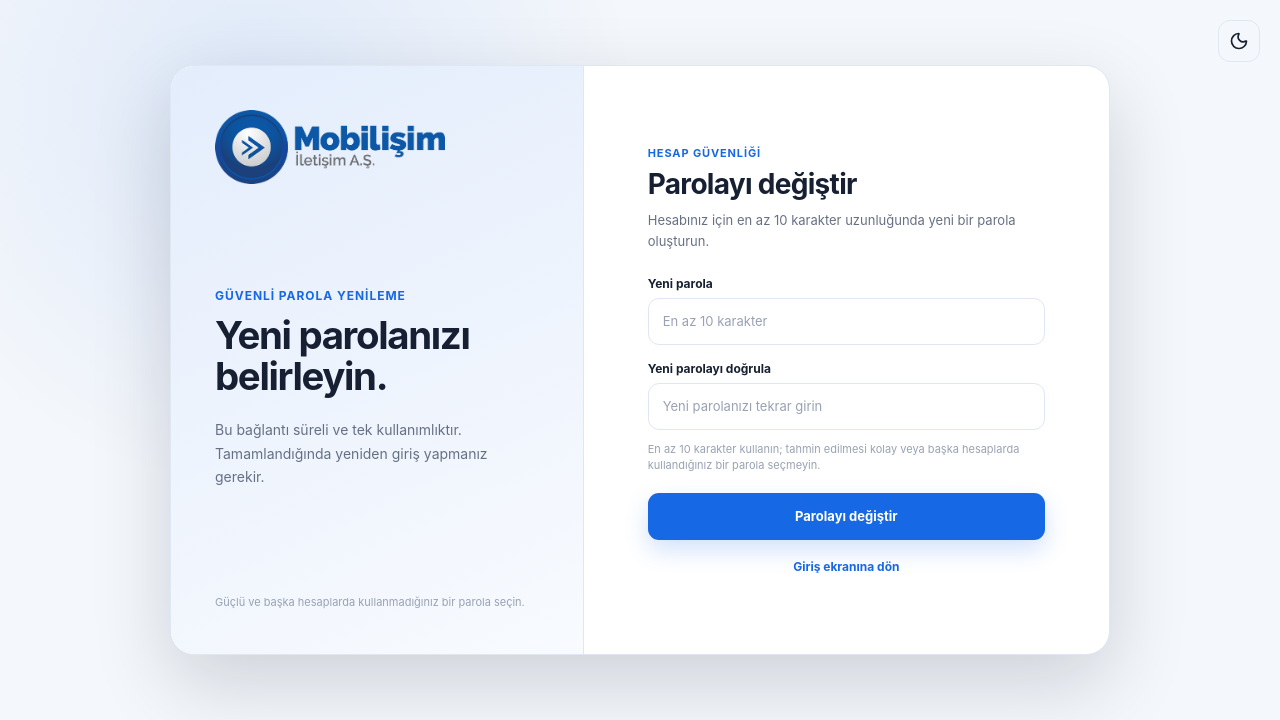
Test: PasswordResetScreen › parola kurallarını doğrulayıp yeni parolayı kaydeder
Type "short" into the password field labelled "Yeni parola" at (846, 321), box [648,298,1045,345]
Click the button "Parolayı değiştir" at (846, 516), box [648,493,1045,540]
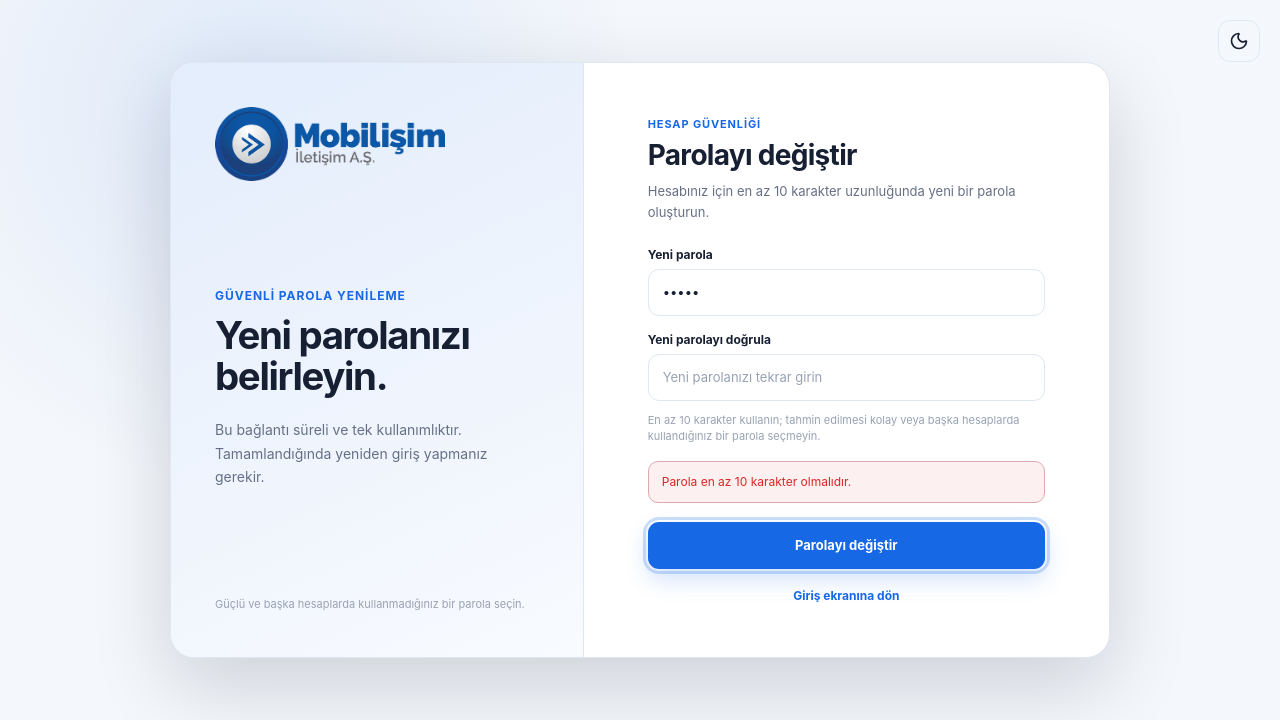
Check: the message reads "Parola en az 10 karakter olmalıdır.", box [662,474,851,489]
Type "strong-pass-2" into the password field labelled "Yeni parola" at (846, 292), box [648,269,1045,316]
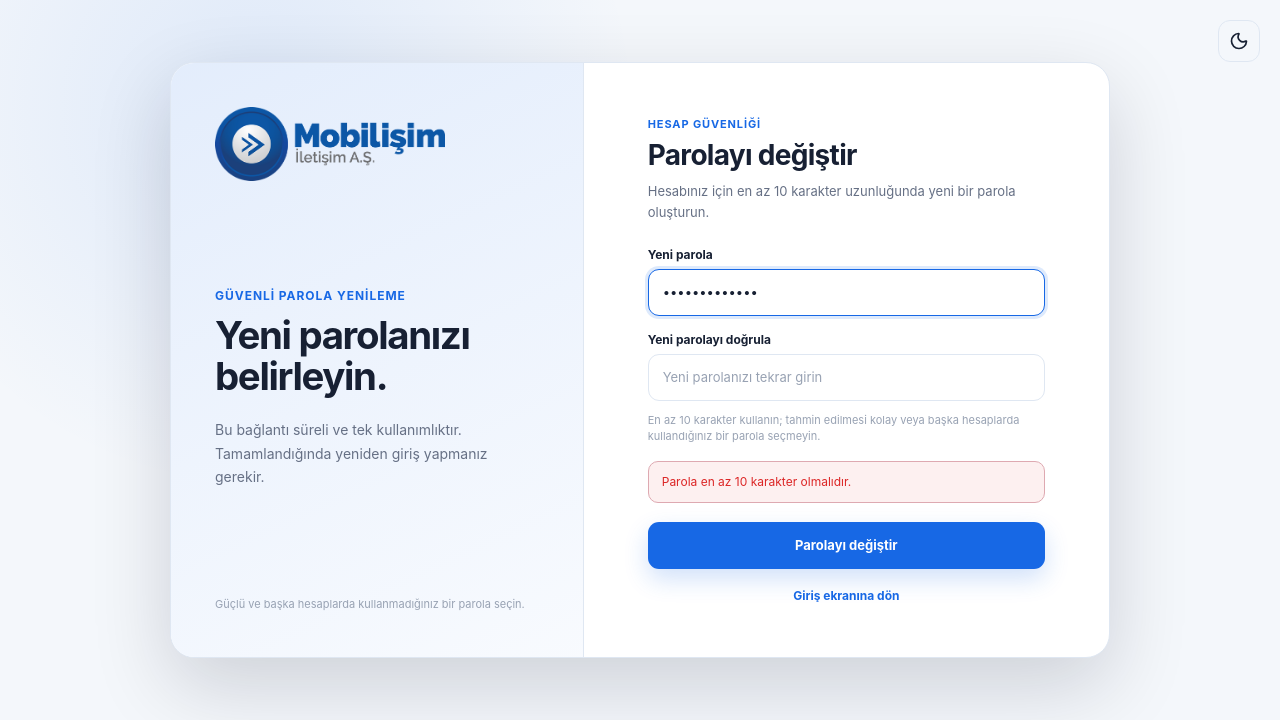
Type "different-pass" into the password field labelled "Yeni parolayı doğrula" at (846, 377), box [648,354,1045,401]
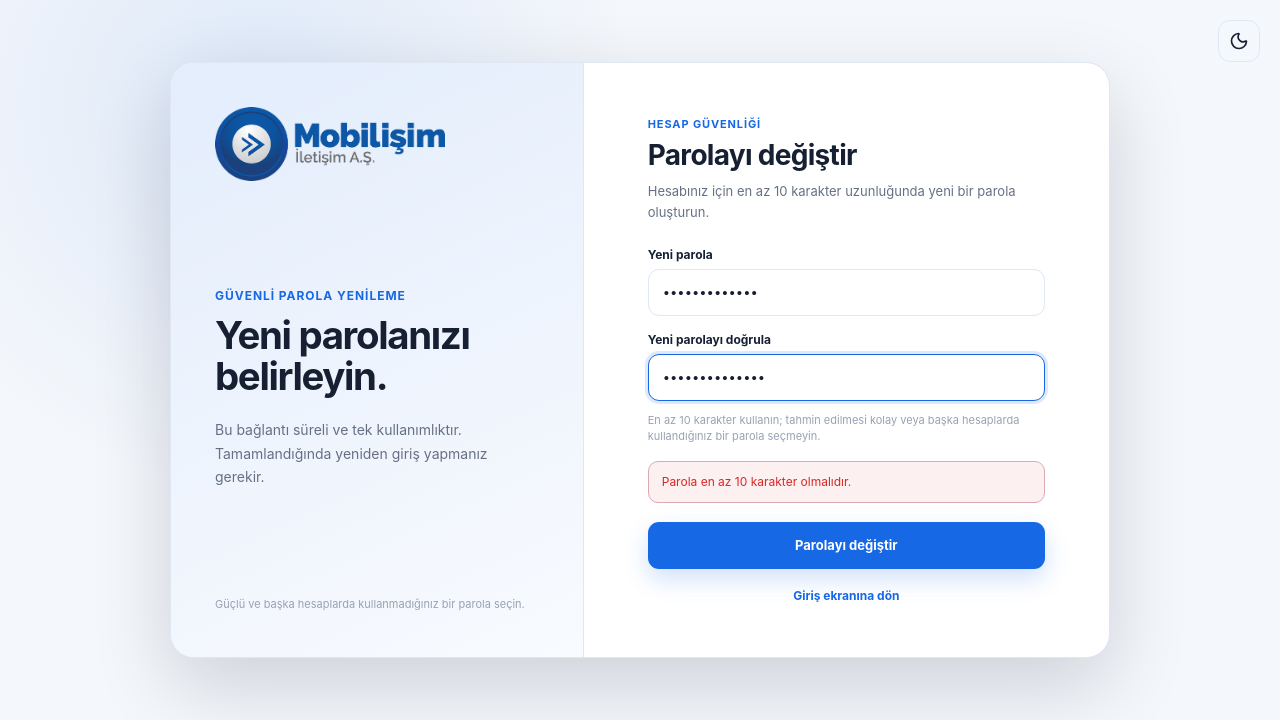
Click the button "Parolayı değiştir" at (846, 545), box [648,522,1045,569]
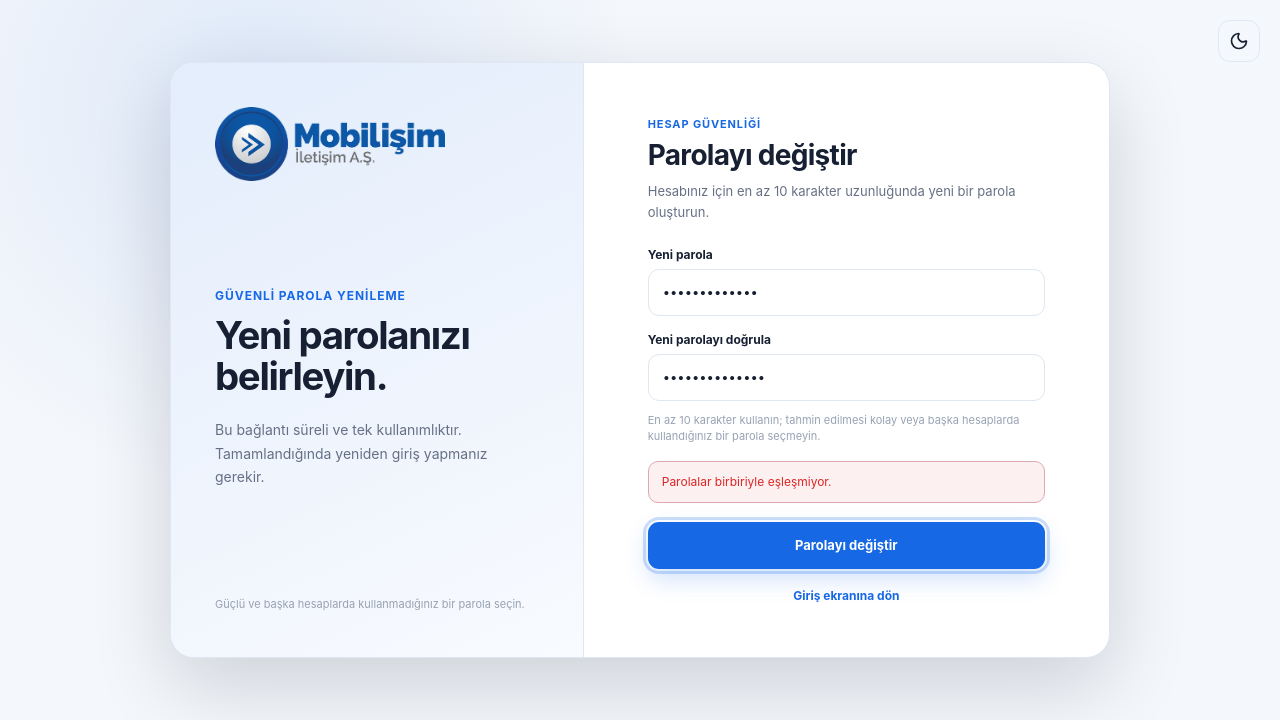
Check: the message reads "Parolalar birbiriyle eşleşmiyor.", box [662,474,832,489]
Type "strong-pass-2" into the password field labelled "Yeni parolayı doğrula" at (846, 377), box [648,354,1045,401]
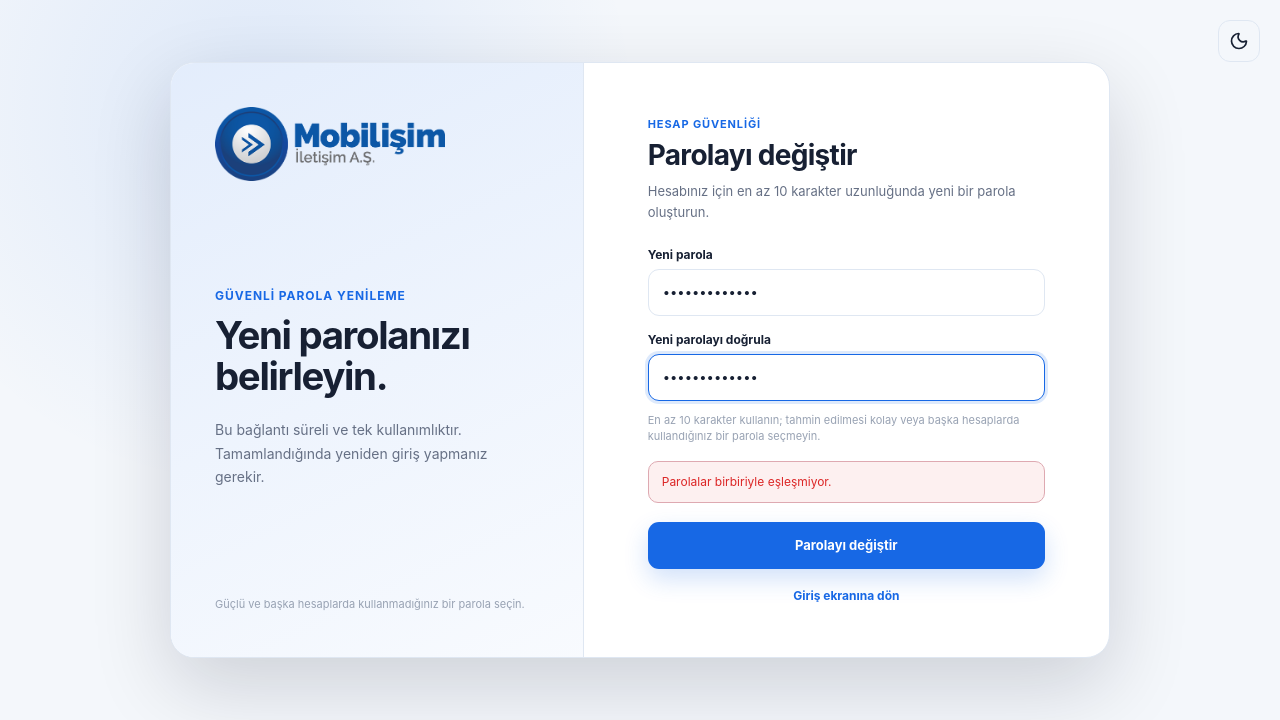
Click the button "Parolayı değiştir" at (846, 545), box [648,522,1045,569]
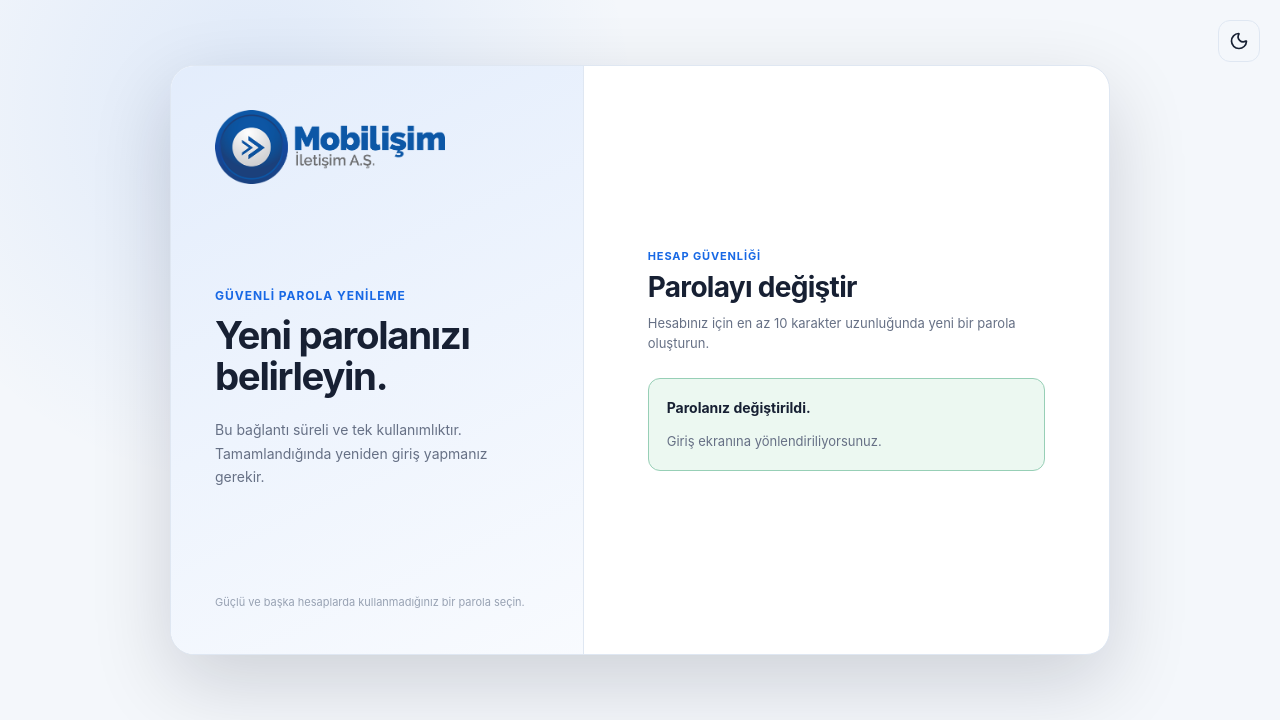
Check: the message shows "Parolanız değiştirildi.", box [667,399,811,416]
